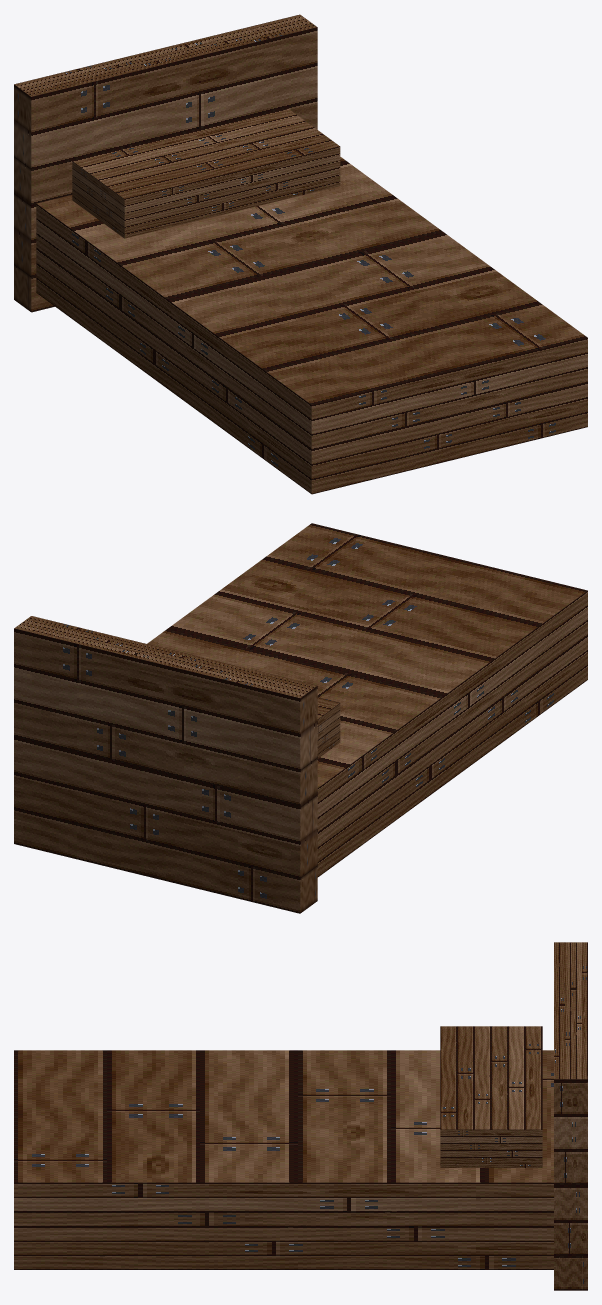
Rendered from prisao_cama.glb.
3 renders of one model, top to bottom at view 1: azimuth 30°, elevation 25°; view 2: azimuth 150°, elevation 25°; view 3: azimuth 270°, elevation 25°, orthographic. The views are drawn at different scales.
Visible parts, largest first — view 1: prisao_cama; view 2: prisao_cama; view 3: prisao_cama.
Part boxes in pixels (x1,y1,x2,y2): prisao_cama: (14, 14, 587, 494); prisao_cama: (14, 523, 587, 913); prisao_cama: (14, 942, 587, 1290).
Bounding box in the file's own units: 1.14 × 0.82 × 2.02.
1 material, 1 textured.
